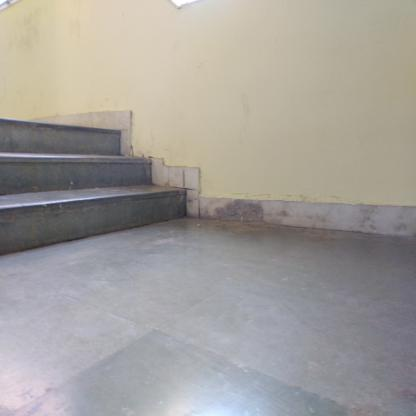stairs: (1, 126, 125, 259)
